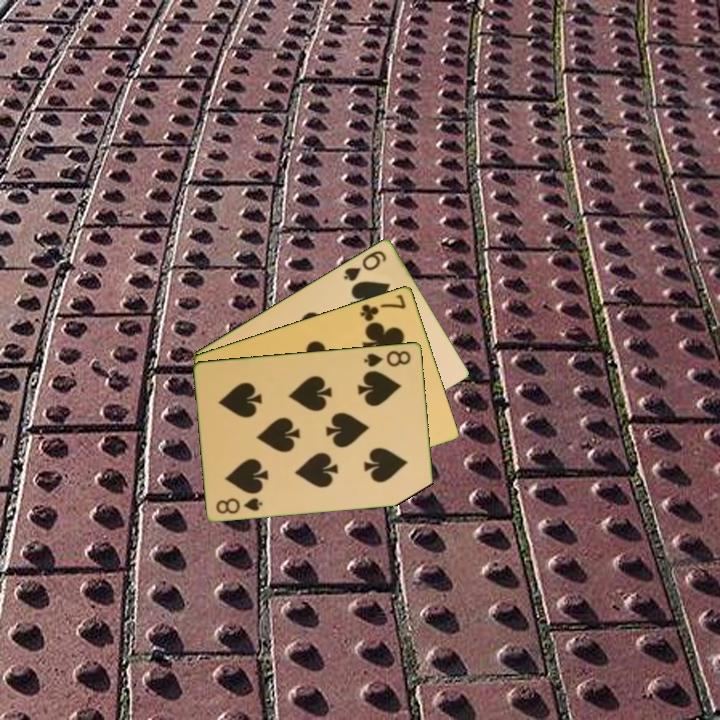6s: (340, 246, 390, 284)
7c: (356, 291, 409, 324)
8s: (361, 347, 414, 369), (213, 494, 265, 516)
